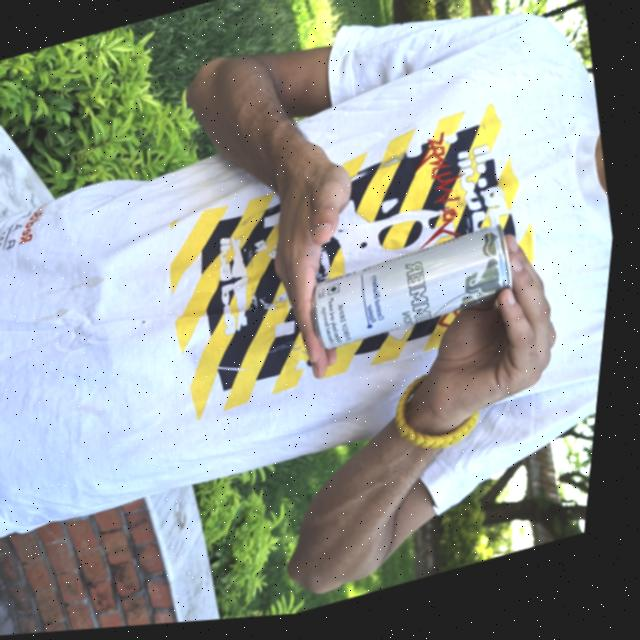Redbull Summer Edition: (312, 229, 528, 362)
